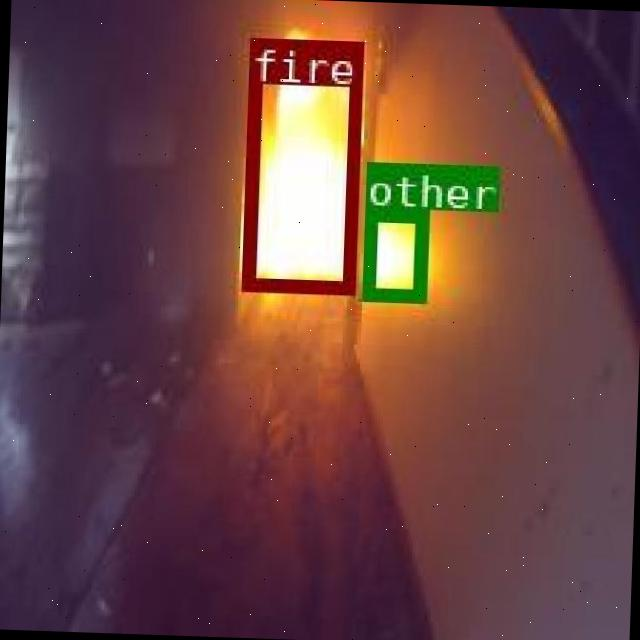fire: (239, 36, 361, 291)
